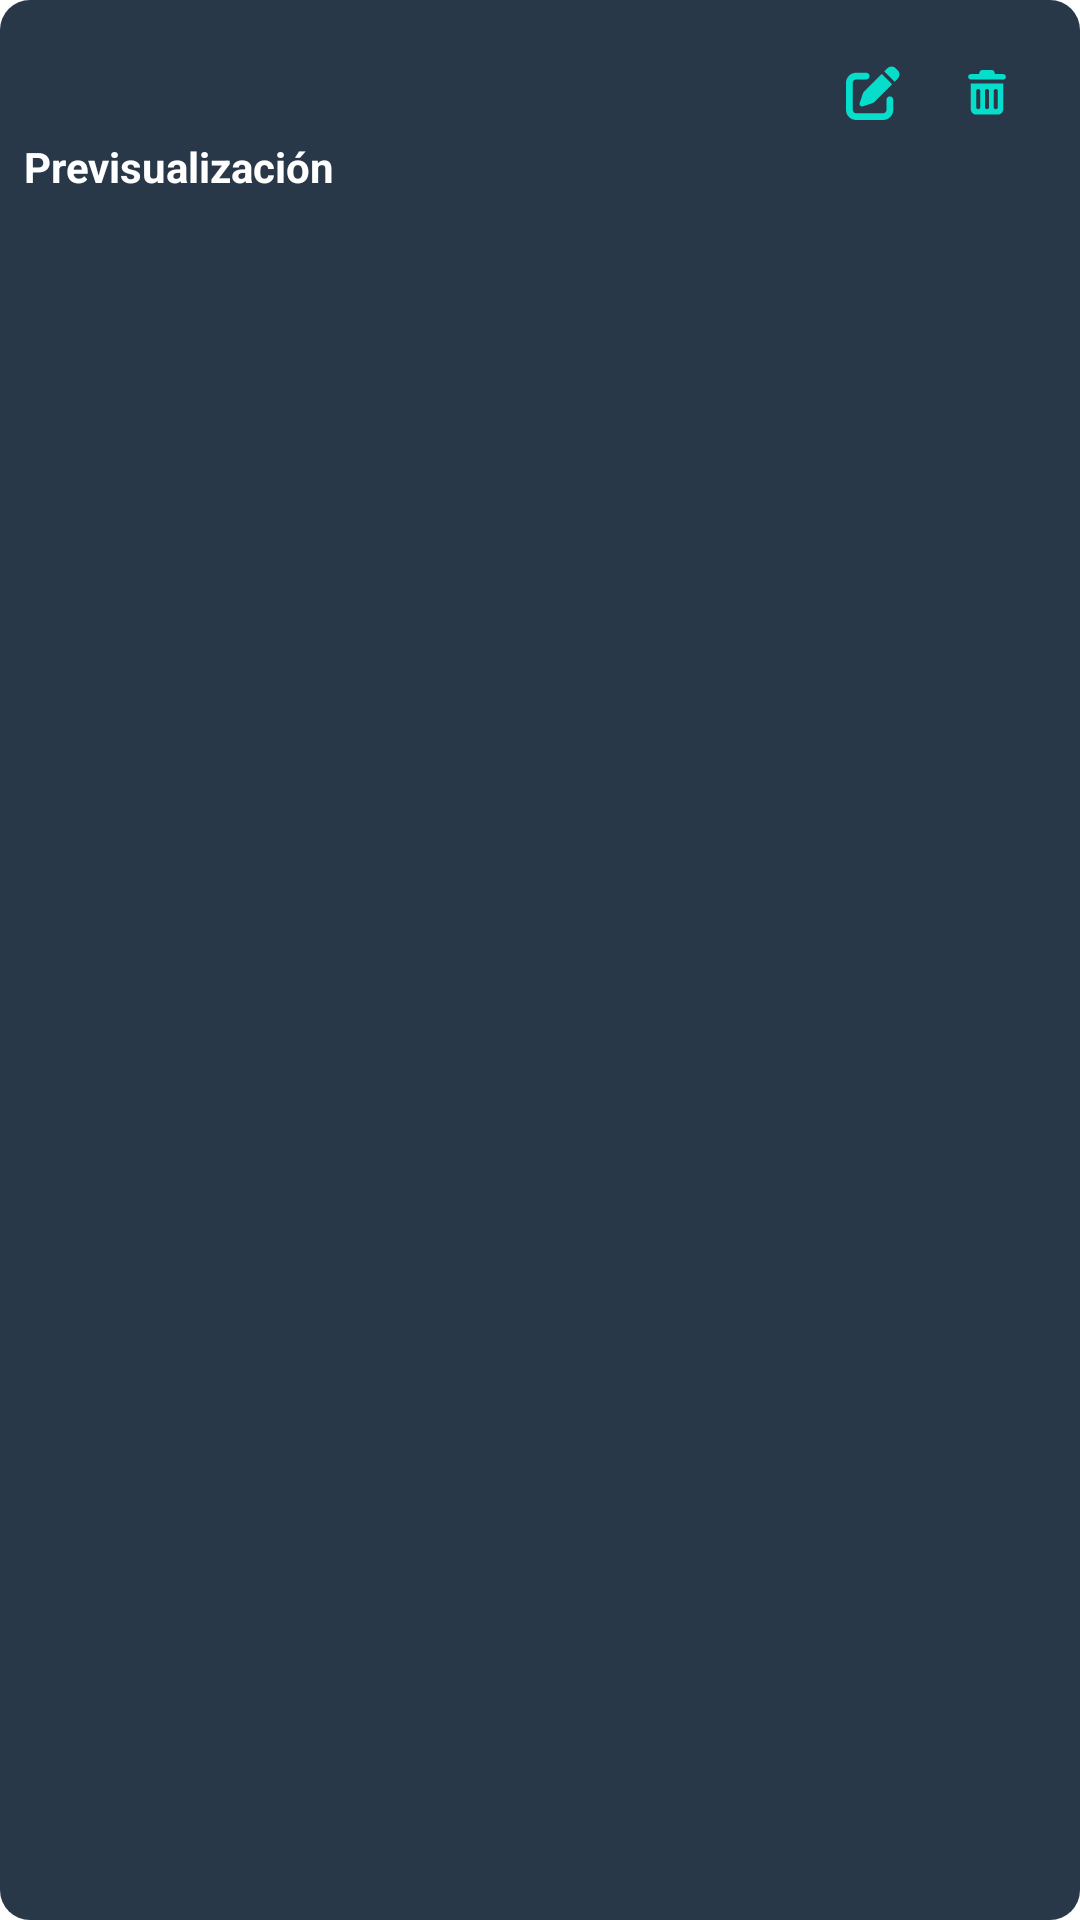

Named icons in this screenshot (1080 × 1920) and their centers, [x,y]:
edit: [873,93]
trash: [987,92]
